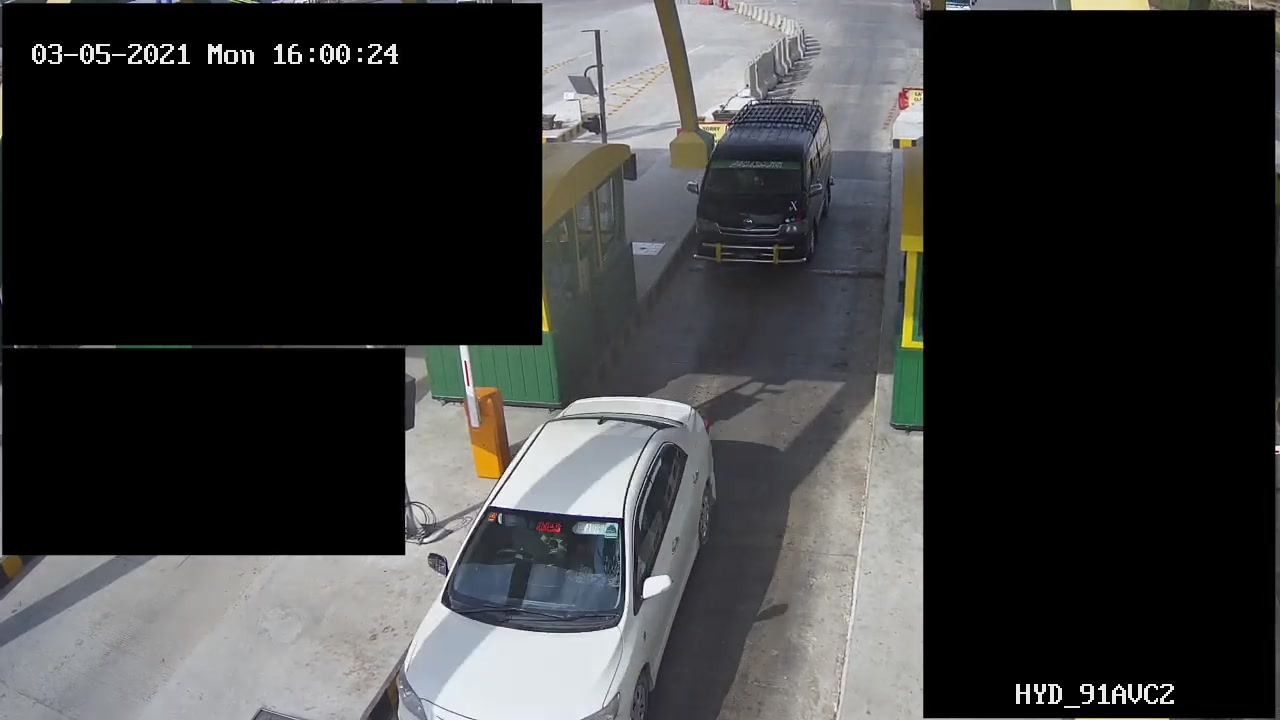F2: (679, 96, 858, 281)
